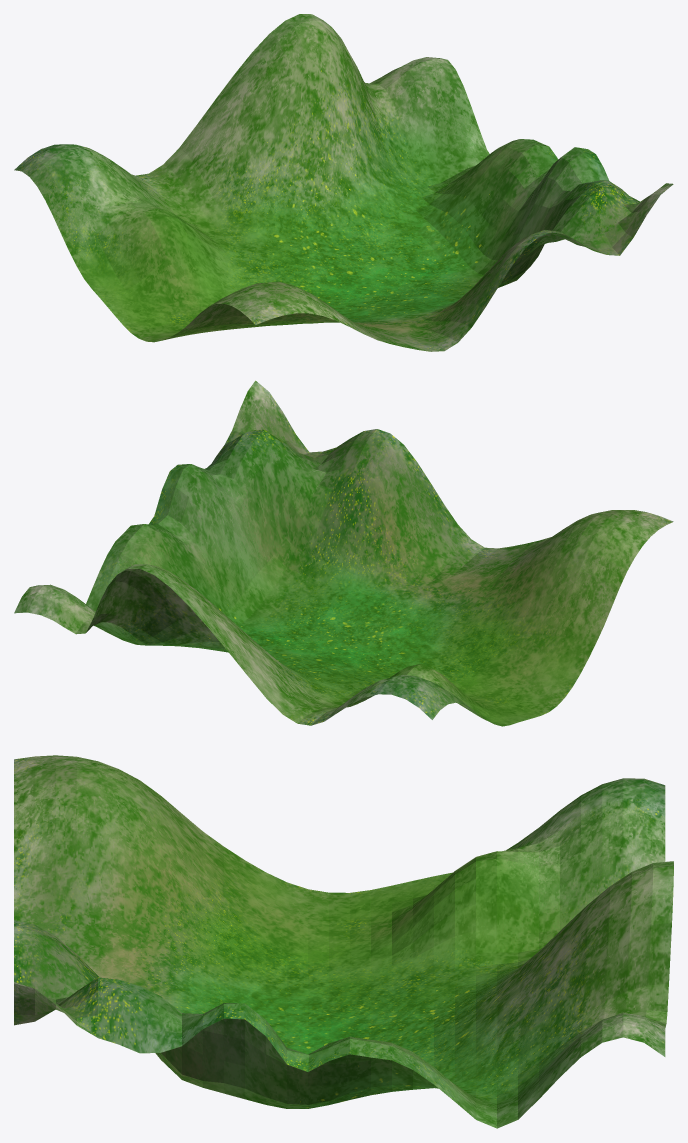
Rendered from terrain.obj.
3 renders of one model, top to bottom at view 1: azimuth 30°, elevation 25°; view 2: azimuth 150°, elevation 25°; view 3: azimuth 270°, elevation 25°, orthographic. The views are drawn at different scales.
Parts seen in each view (by area): view 1: 平面; view 2: 平面; view 3: 平面.
Boxes of the visible parts, x1,y1,x2,y2 form: 平面: (14,14,673,351); 平面: (14,380,673,726); 平面: (14,755,673,1128).
Size of the model in its own units: 200 by 74.83 by 203.
1 material, 1 textured.
